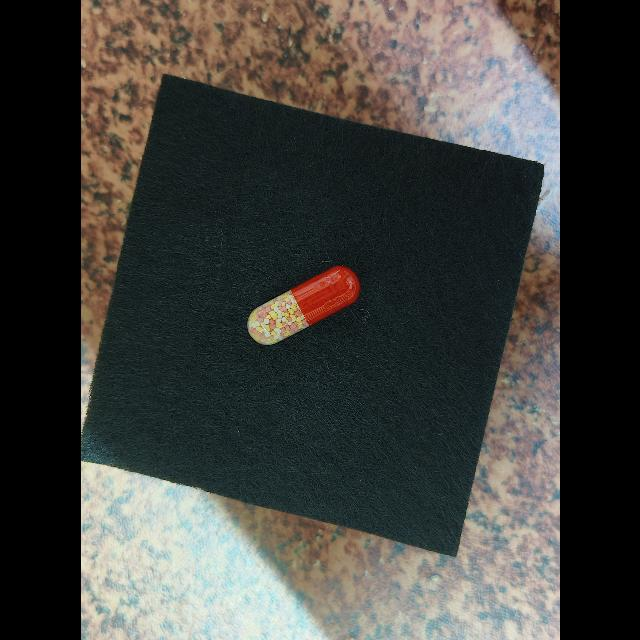Intact Capsule: (247, 266, 360, 345)
